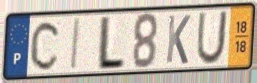8: (131, 10, 160, 72)
C: (28, 19, 63, 73)
I: (69, 16, 83, 73)
K: (164, 13, 192, 66)
L: (94, 14, 127, 72)
U: (194, 9, 230, 67)
